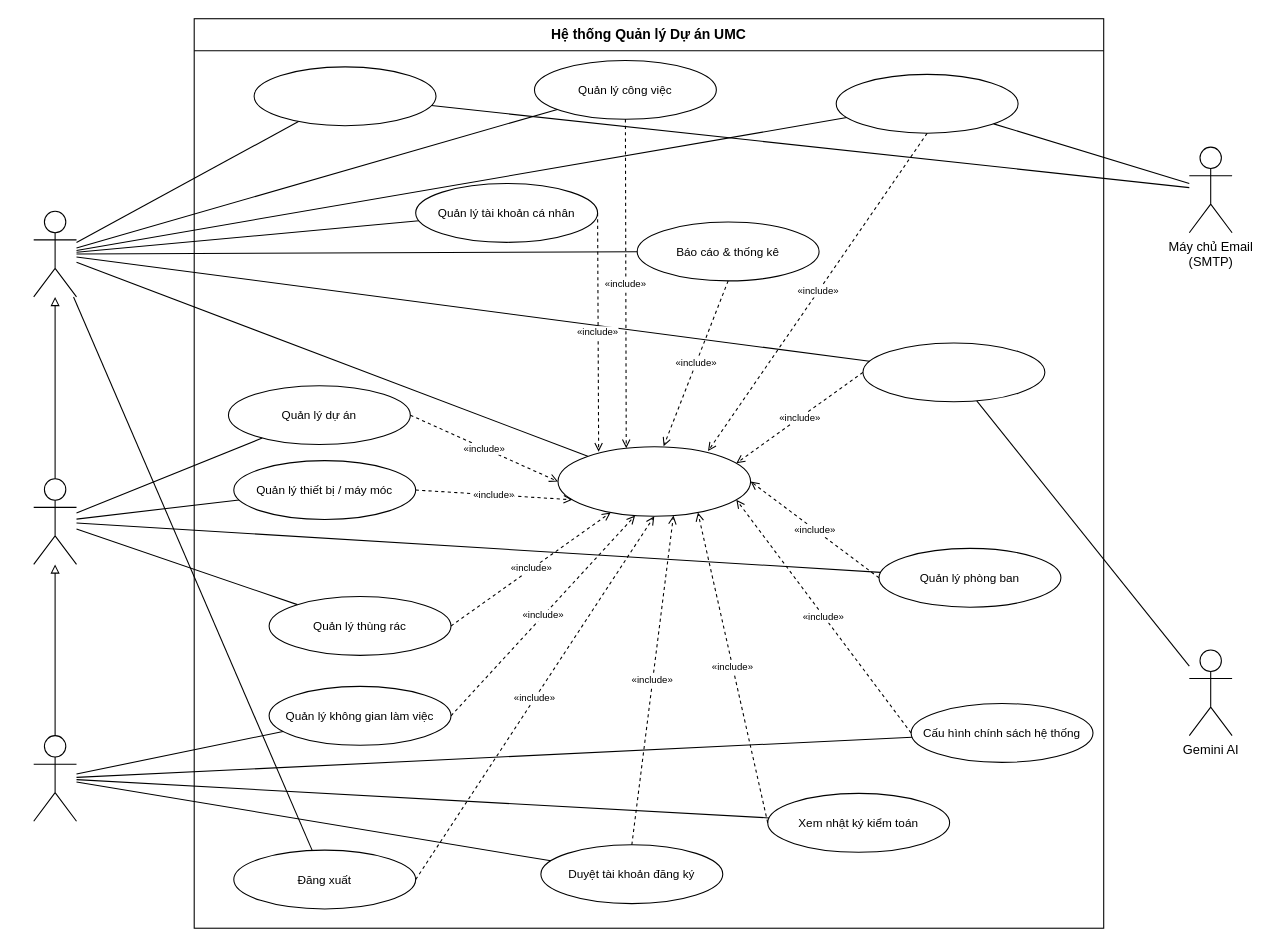
This 1271x947 diagram has some shape labels left out. The shapes that lost their labels are listed below. From the top down, each one's centre as x and y in pixels, then its label:
At point (344, 96): "Đăng ký tài khoản".
At point (926, 103): "Nhận thông báo".
At point (55, 253): "Thành viên (MEMBER)".
At point (953, 372): "Trợ lý AI".
At point (654, 481): "Đăng nhập".
At point (55, 521): "Quản lý (MANAGER)".
At point (55, 778): "Quản trị viên (ADMIN)".
